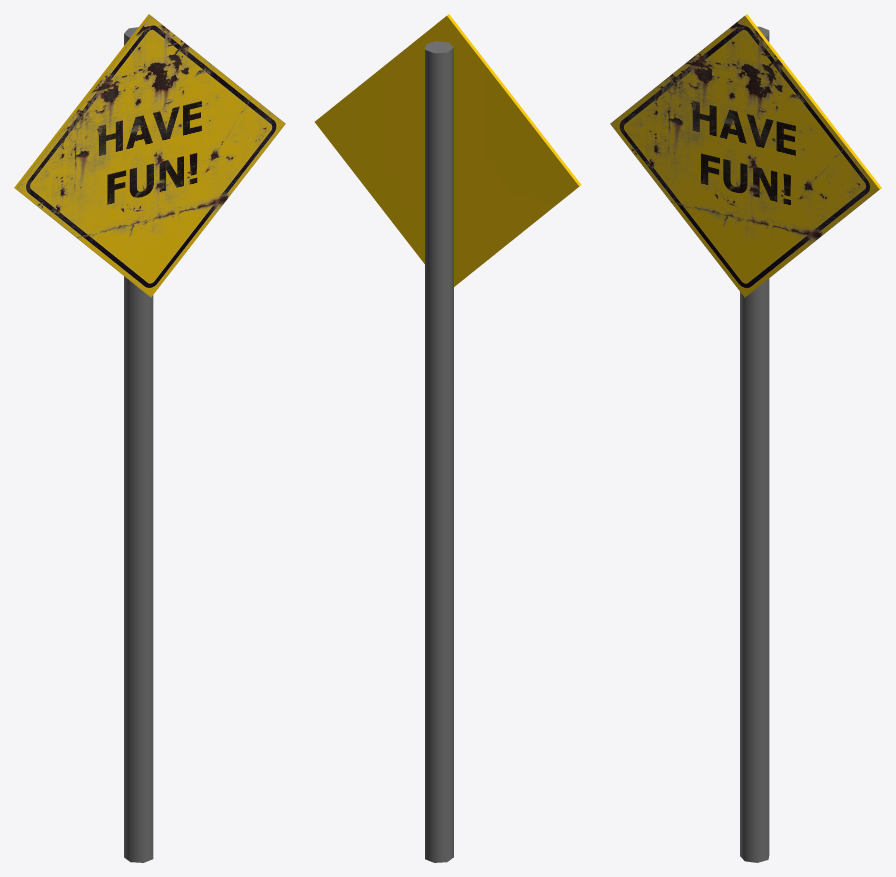
Rendered from RoadSign.FBX.
The picture shows the model from 3 angles, left to right: view 1: azimuth 30°, elevation 25°; view 2: azimuth 150°, elevation 25°; view 3: azimuth 330°, elevation 25°; orthographic projection.
Visible parts, largest first — view 1: Box01; view 2: Box01; view 3: Box01.
Part boxes in pixels (<box>): Box01: <box>14,14,285,862</box>; Box01: <box>315,14,581,862</box>; Box01: <box>610,14,881,862</box>.
Size of the model in its own units: 21.21 by 63.88 by 2.55.
1 material, 1 textured.
